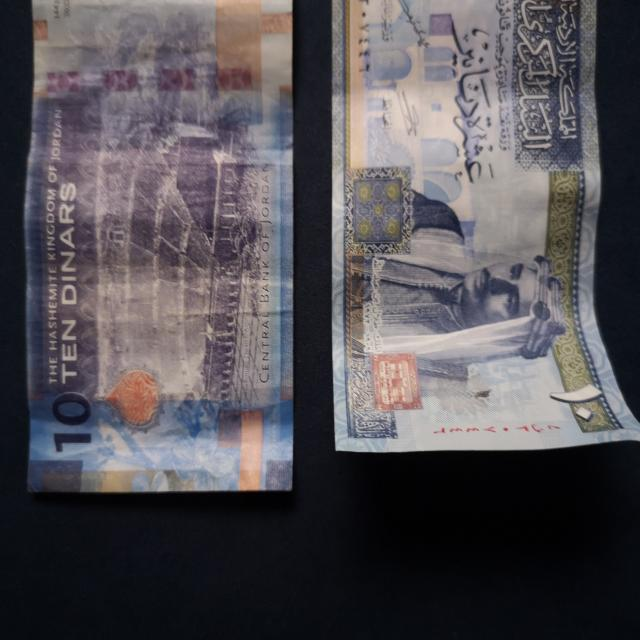10-dinar: (333, 2, 640, 452), (26, 1, 294, 492)
